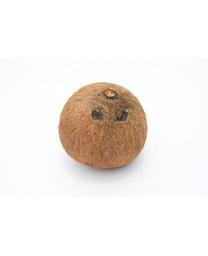coconut: (58, 82, 147, 171)
